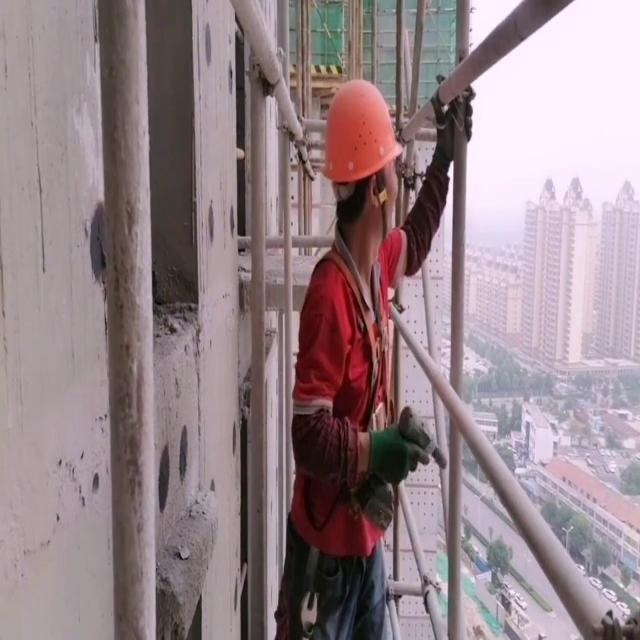Arnes_seguridad: (299, 244, 409, 466)
